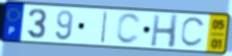3: (26, 8, 50, 40)
9: (54, 9, 75, 42)
C: (114, 12, 143, 46), (179, 16, 207, 49)
H: (149, 14, 180, 49)
I: (99, 10, 110, 45)
